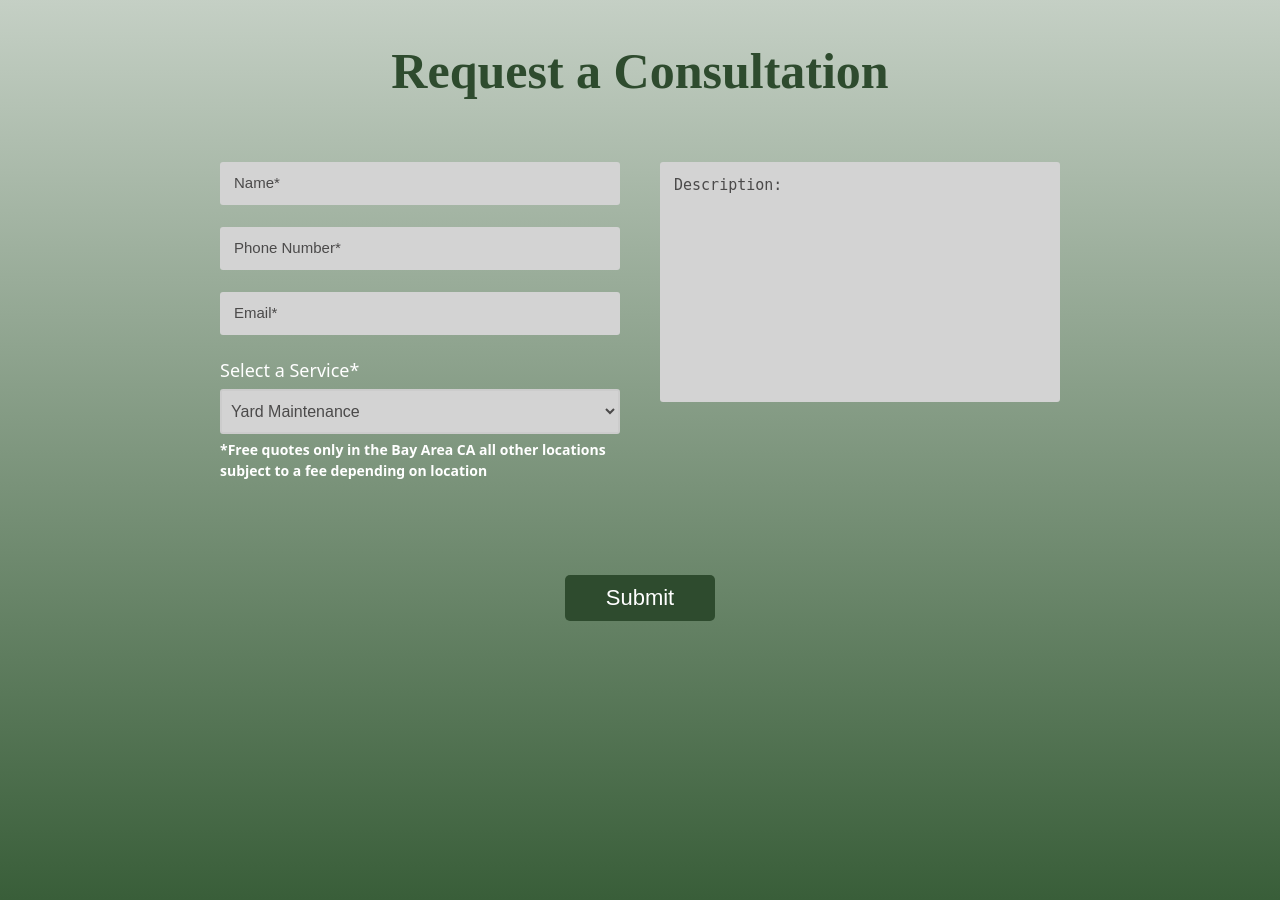
Test case: Quote form validation › rejects a phone number that is not 10 digits or xxx-xxx-xxxx
Type "5551234" into the field with placeholder "Phone Number*" at (420, 248), box top-left (220, 227), bottom-right (620, 270)
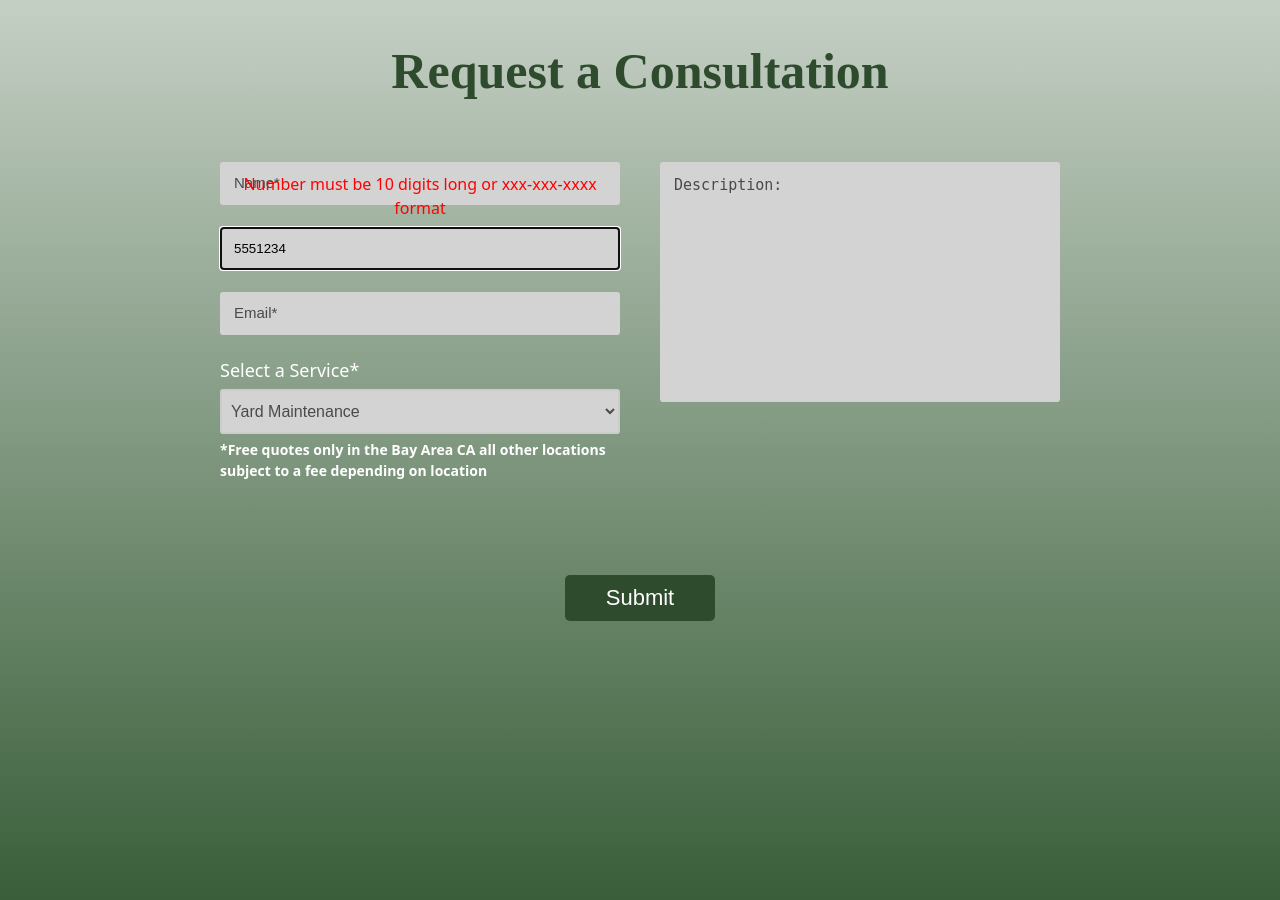
Check: the text "Number must be 10 digits long or xxx-xxx-xxxx format" is shown, box top-left (223, 172), bottom-right (617, 220)
